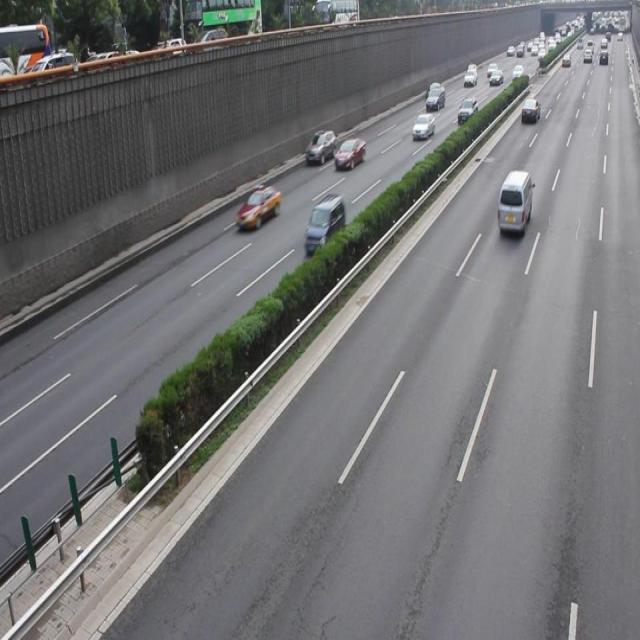car: (236, 183, 280, 231), (305, 129, 335, 164), (334, 137, 364, 169)
truck: (303, 193, 345, 254), (496, 168, 531, 232)
